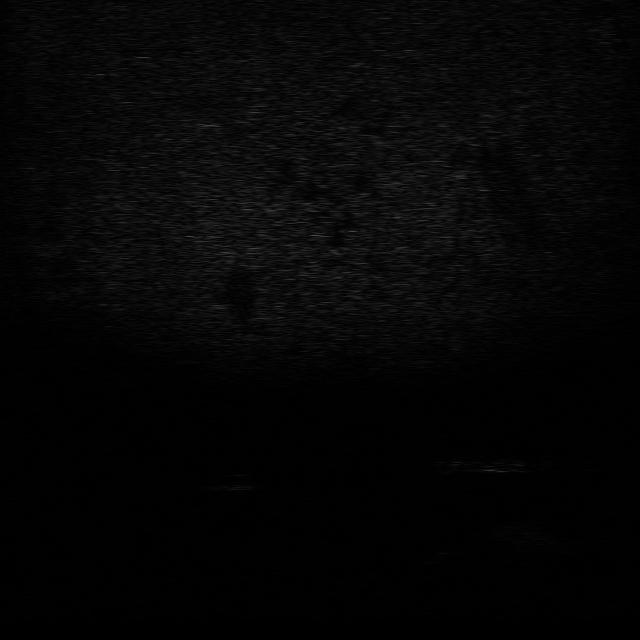ball: (210, 468, 261, 492)
circle cage: (490, 520, 578, 556)
human body: (434, 451, 561, 475)
